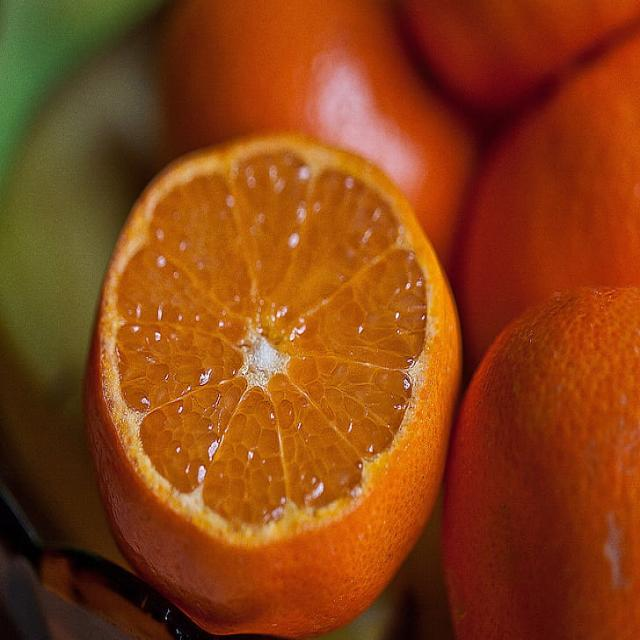orange: (100, 134, 461, 609)
